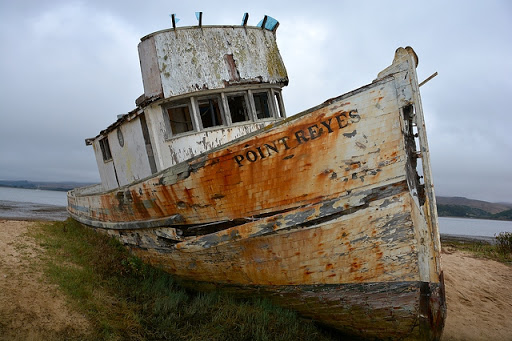rust: (194, 157, 293, 215), (100, 192, 189, 221)
